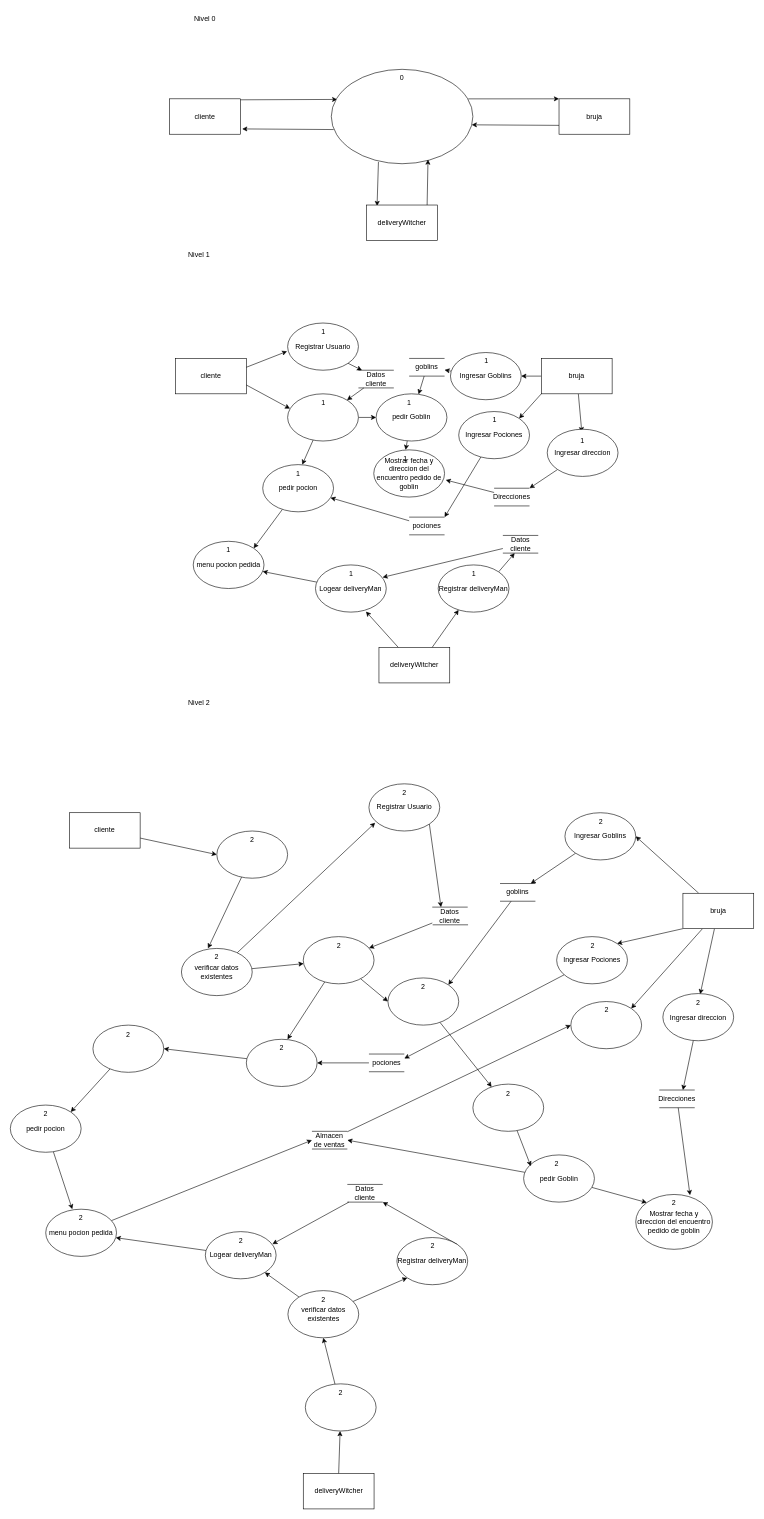
The diagram is 764 pixels wide and 1519 high, and some of its shapes have lost their labels. The shapes that lost their labels are listed below. From the top down, each one's box as (x1, y1, x2, y2) in pixels, then its label:
(331, 69, 473, 164): App venta de pociones y goblins
(287, 393, 358, 441): Logear
(216, 830, 288, 878): pedir datos usuario
(303, 936, 374, 984): Ingresar a la cuenta pedida
(387, 977, 459, 1025): Ingresar menu de goblins
(570, 1001, 642, 1049): ver ventas
(92, 1025, 164, 1072): Entrar menu pocion especifica
(246, 1039, 317, 1086): Ingresar menu de pociones
(472, 1084, 544, 1131): Entrar menu goblin especifico
(305, 1383, 376, 1431): pedir datos deliveryWitcher
